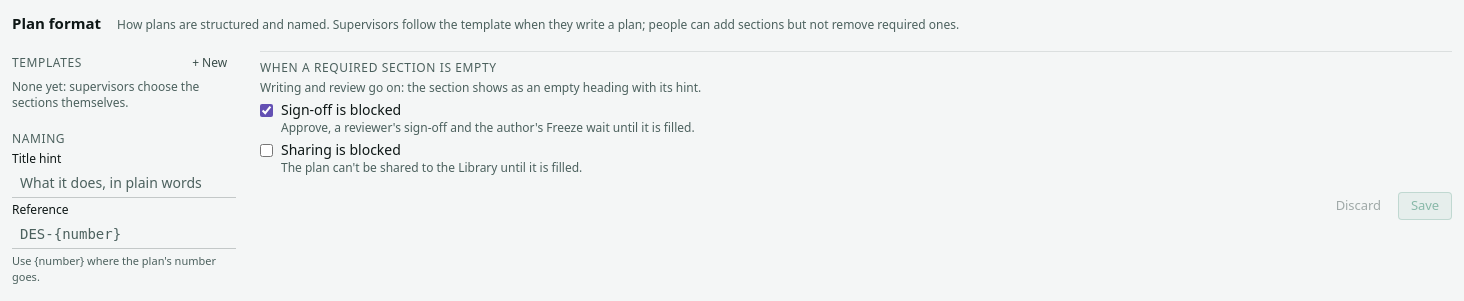
it: DocFormat › shows the daemon's refusal and keeps the draft
Type "DES-" into the field labelled "Reference" at [124, 234], box [12,220,236,248]
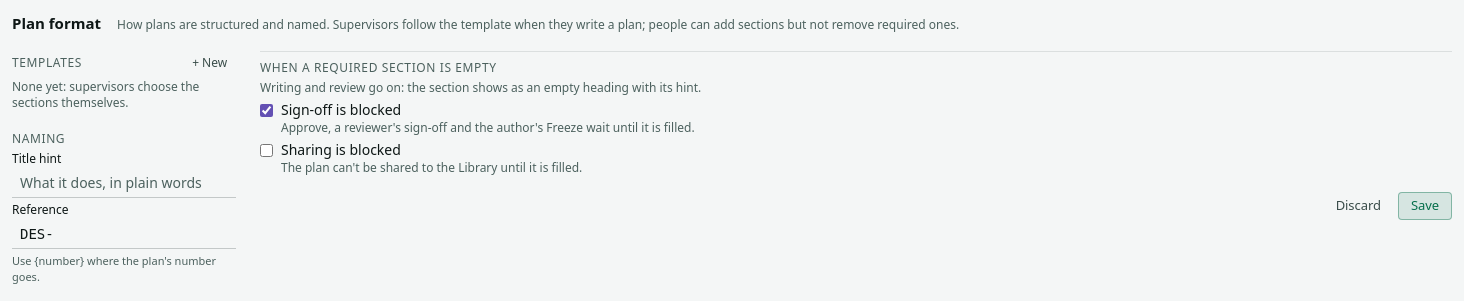
Click the button "Save" at [1425, 206], box [1398,192,1452,220]
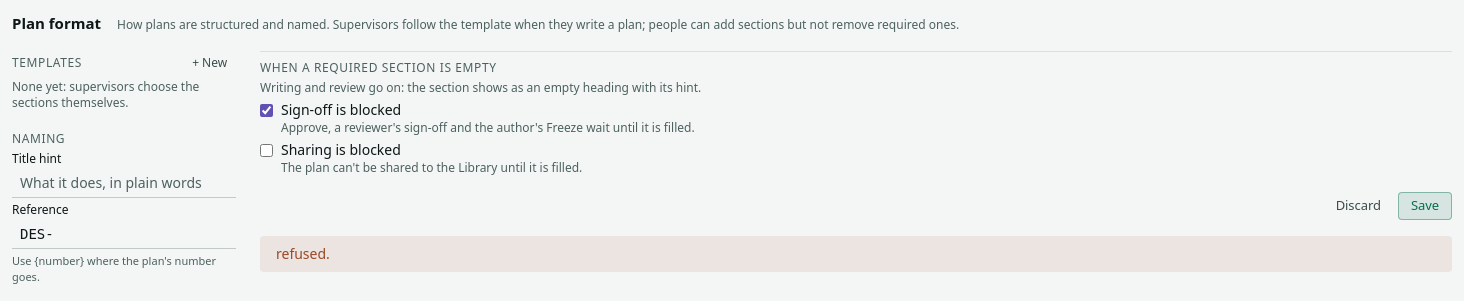
Now the button "Save" is enabled, box [1398,192,1452,220]
Now the message "refused." is shown, box [260,236,1452,272]
